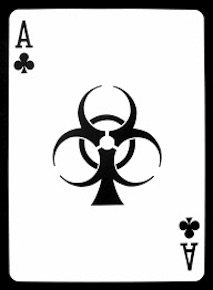AceOfClubs: (2, 1, 210, 286)
